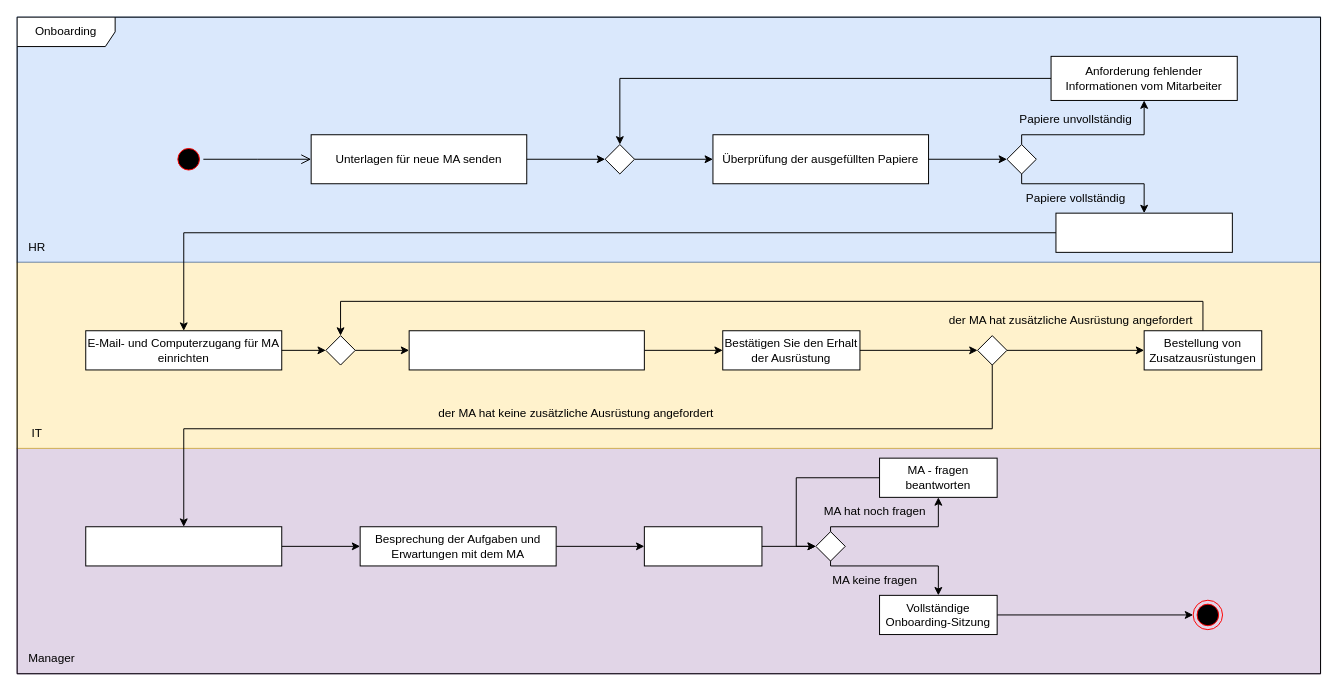
The diagram is 1338 pixels wide and 691 high, and some of its shapes have lost their labels. Each missing label, with the centre of its shape:
Ausstattung des MA mit der erforderlichen Software und Ausrüstung: the point at 526,350
MA in das Team einführen: the point at 702,546
Planung Einzelgespräche mit MA: the point at 183,546
Planung Orientierungs- und Einführungsveranstaltung: the point at 1143,232
